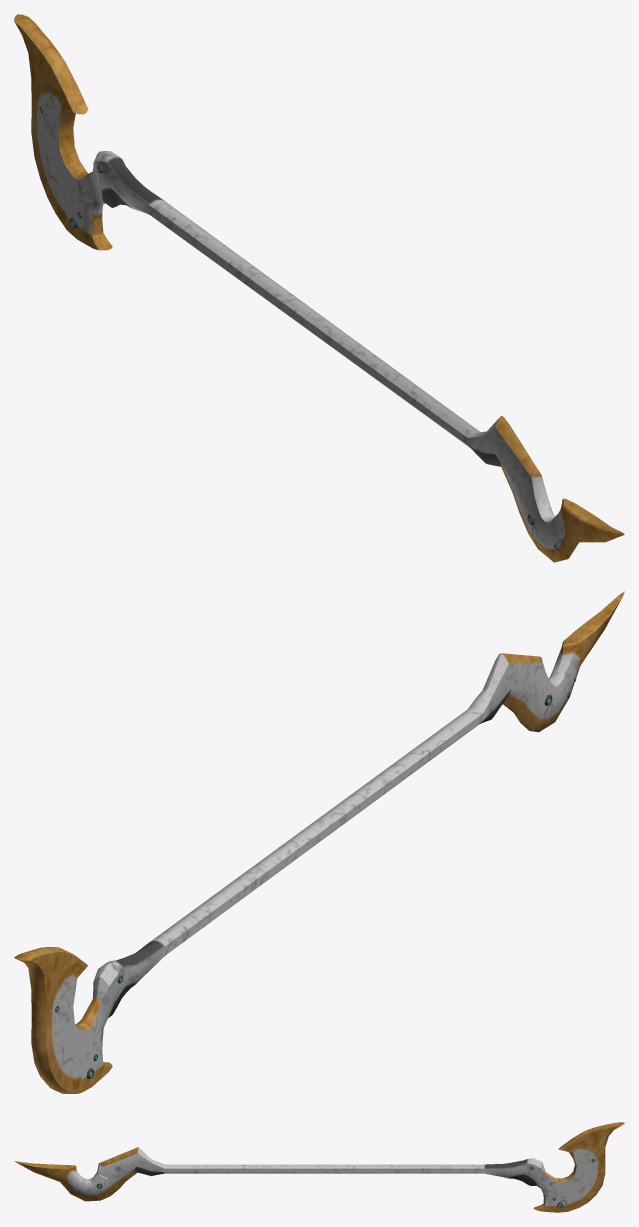
The model's file is orthos_prime.glb.
The picture shows the model from 3 angles, top to bottom: view 1: azimuth 30°, elevation 25°; view 2: azimuth 150°, elevation 25°; view 3: azimuth 270°, elevation 25°; orthographic projection. The views are drawn at different scales.
Visible parts, largest first — view 1: Cylinder; view 2: Cylinder; view 3: Cylinder.
Part boxes in pixels (<box>): Cylinder: <box>14,14,624,562</box>; Cylinder: <box>14,591,624,1093</box>; Cylinder: <box>14,1122,624,1212</box>.
Bounding box in the file's own units: 0.0567 × 0.4244 × 2.64.
1 material, 1 textured.
